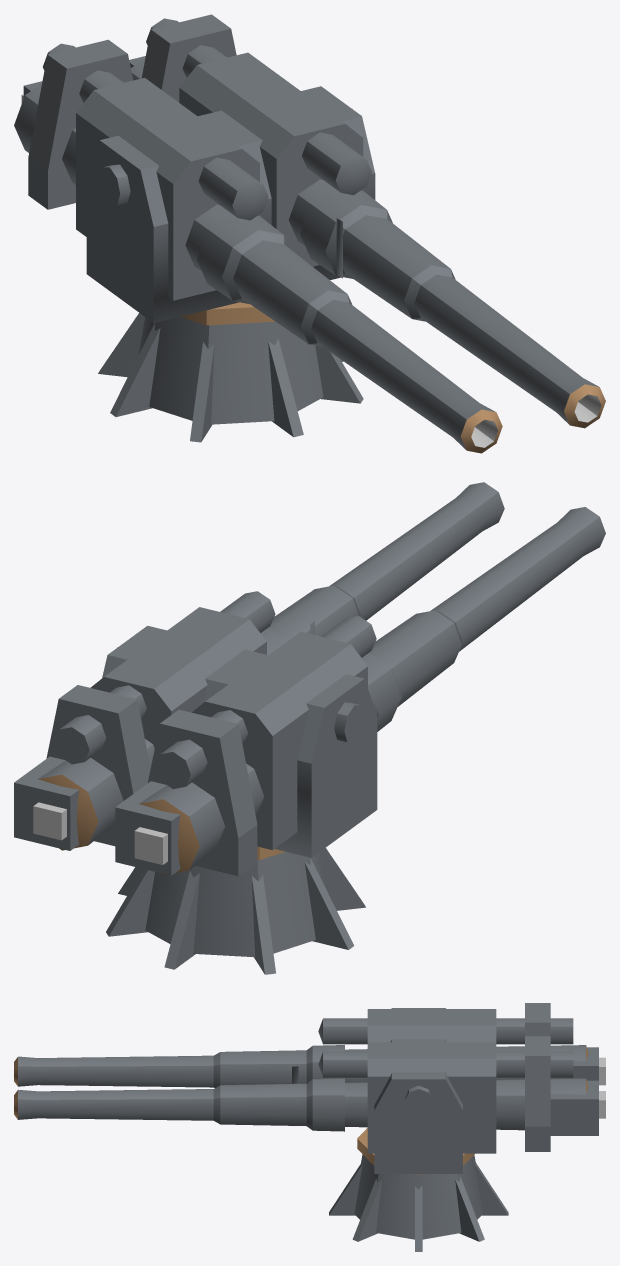
Rendered from VDT_gun_cal150_x2_001_VDT_gun_cal150_x2_001.obj.
3 views of the same model, one above another, from view 1: azimuth 30°, elevation 25°; view 2: azimuth 150°, elevation 25°; view 3: azimuth 270°, elevation 25° (orthographic). The views are drawn at different scales.
Parts seen in each view (by area): view 1: VDT_gun_cal150_x2_001_VDT_gun_cal150_x2_001_details_4, VDT_gun_cal150_x2_001_VDT_gun_cal150_x2_001_details_3, VDT_gun_cal150_x2_001_VDT_gun_cal150_x2_001_details_2; view 2: VDT_gun_cal150_x2_001_VDT_gun_cal150_x2_001_details_4, VDT_gun_cal150_x2_001_VDT_gun_cal150_x2_001_details_3, VDT_gun_cal150_x2_001_VDT_gun_cal150_x2_001_details_2; view 3: VDT_gun_cal150_x2_001_VDT_gun_cal150_x2_001_details_4, VDT_gun_cal150_x2_001_VDT_gun_cal150_x2_001_details_3, VDT_gun_cal150_x2_001_VDT_gun_cal150_x2_001_details_2.
Part boxes in pixels (x1,y1,x2,y2): VDT_gun_cal150_x2_001_VDT_gun_cal150_x2_001_details_4: (14, 14, 598, 450); VDT_gun_cal150_x2_001_VDT_gun_cal150_x2_001_details_3: (180, 302, 605, 453); VDT_gun_cal150_x2_001_VDT_gun_cal150_x2_001_details_2: (21, 94, 601, 447); VDT_gun_cal150_x2_001_VDT_gun_cal150_x2_001_details_4: (14, 482, 605, 974); VDT_gun_cal150_x2_001_VDT_gun_cal150_x2_001_details_3: (38, 774, 285, 875); VDT_gun_cal150_x2_001_VDT_gun_cal150_x2_001_details_2: (33, 802, 167, 864); VDT_gun_cal150_x2_001_VDT_gun_cal150_x2_001_details_4: (18, 1003, 598, 1251); VDT_gun_cal150_x2_001_VDT_gun_cal150_x2_001_details_3: (14, 1045, 588, 1174); VDT_gun_cal150_x2_001_VDT_gun_cal150_x2_001_details_2: (599, 1057, 605, 1118).
Size of the model in its own units: 1.87 by 2.05 by 5.99.
